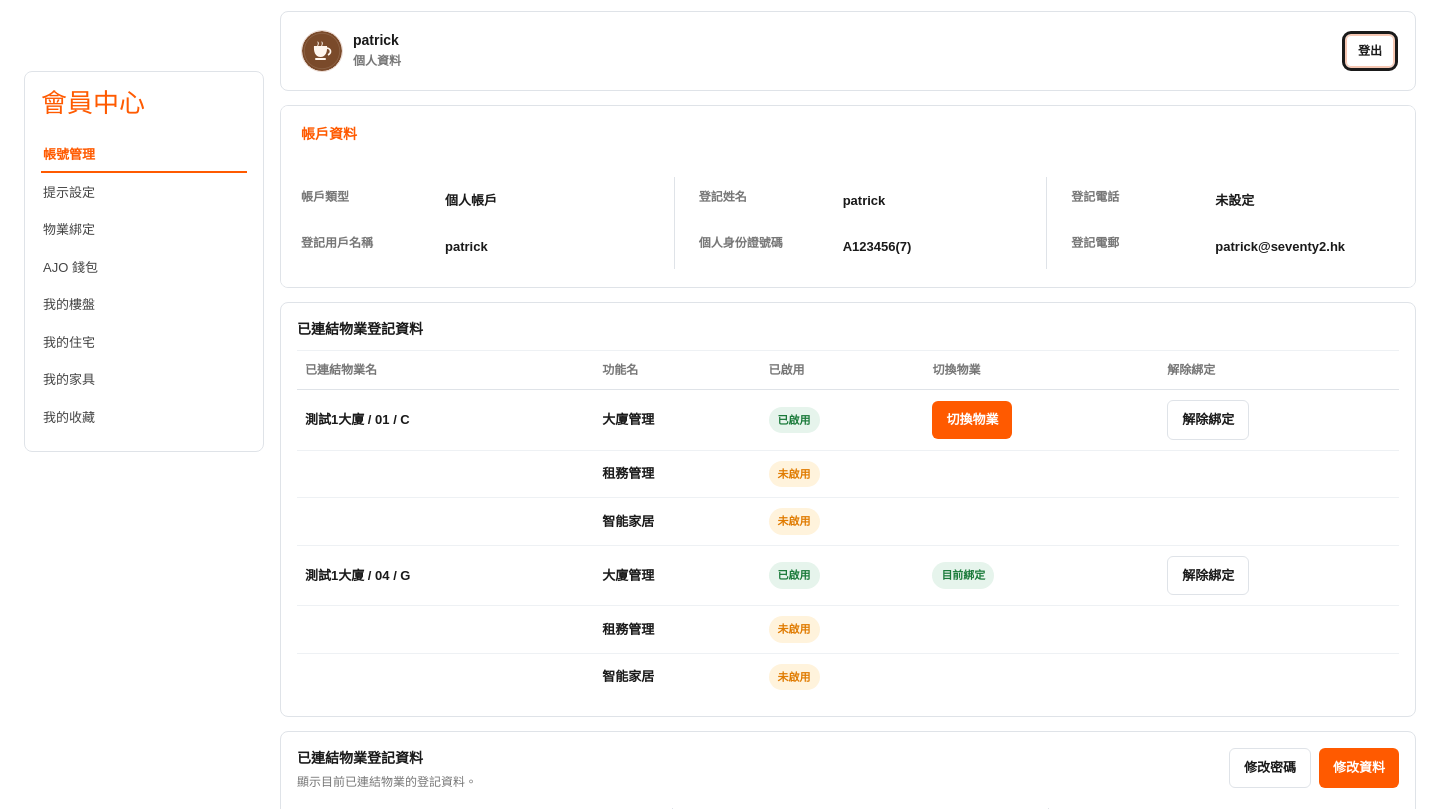
Test: AccountMyPage lazy data loading › locks the owner-binding submit action while an iSmart request is pending
Click the button with class "work-nav-item" showing "物業綁定". click: coordinates (144, 230)
box: [41,212,247,248]
(page scrolled)
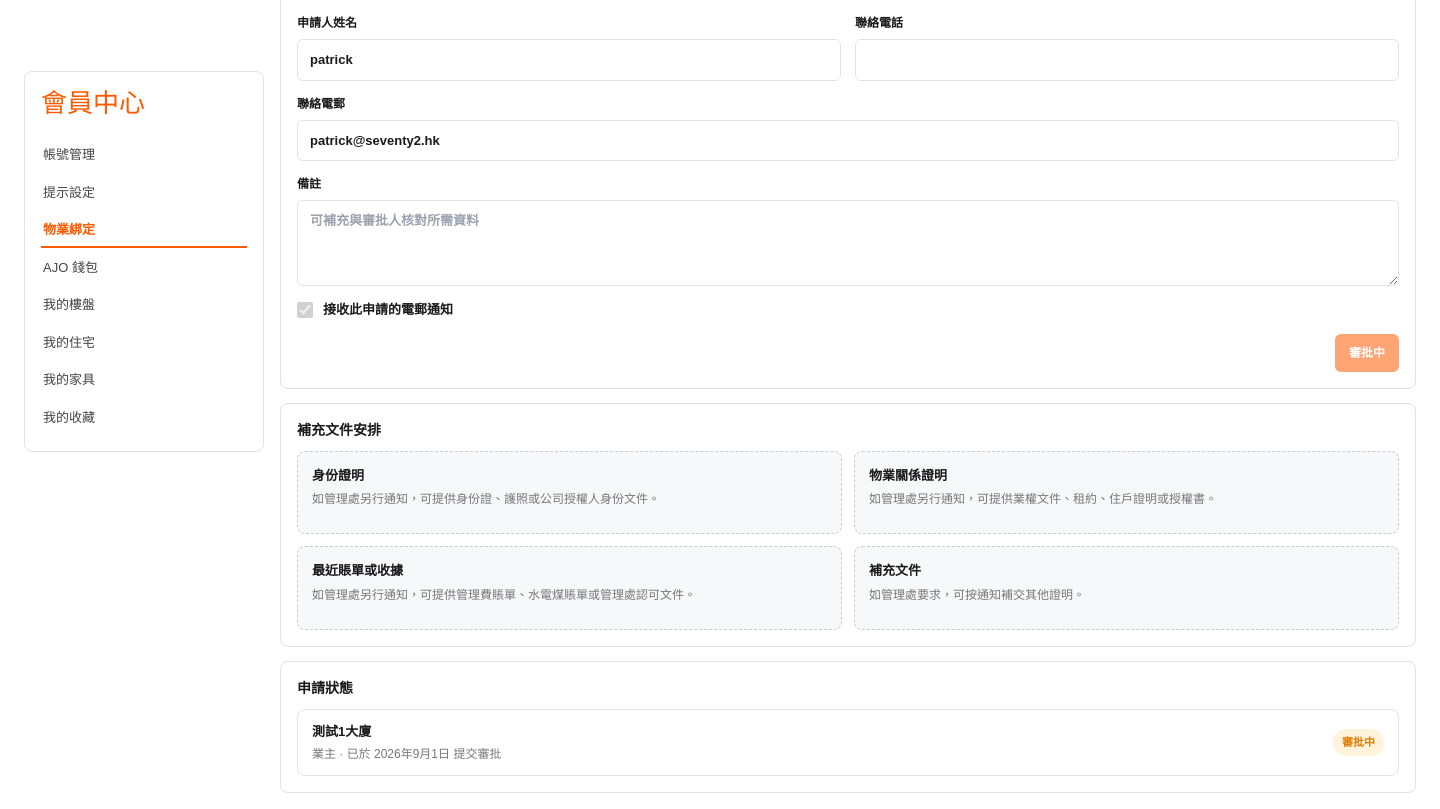
Expected: the button "審批中" is shown, [1335,334,1399,372]
Expected: the number of elements with class "binding-status-item" is 1, [297,709,1399,776]
Expected: the element with class "binding-status-item" shows "審批中", [1342,736,1375,748]
